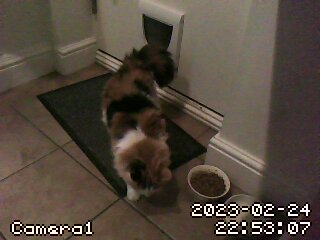clara: (98, 38, 196, 210)
